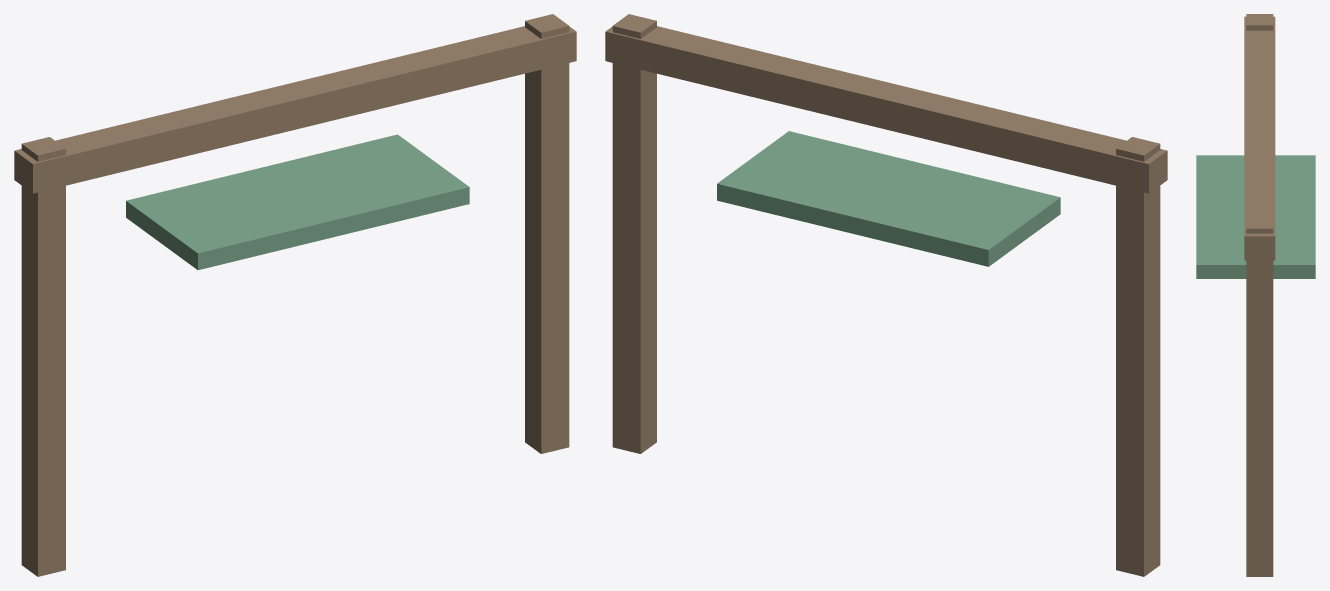
The model's file is tourism-gateway-eco.glb.
3 views of the same model, side by side, from view 1: azimuth 30°, elevation 25°; view 2: azimuth 150°, elevation 25°; view 3: azimuth 270°, elevation 25° (orthographic). The views are drawn at different scales.
Parts seen in each view (by area): view 1: beam, sign, post--1.25, post-1.25; view 2: beam, sign, post--1.25, post-1.25; view 3: sign, post-1.25, beam, post--1.25.
Part boxes in pixels (left/top/right/bottom): beam: left=14, top=26, right=576, bottom=193; sign: left=126, top=134, right=469, bottom=270; post--1.25: left=21, top=137, right=65, bottom=576; post-1.25: left=525, top=14, right=569, bottom=453; beam: left=605, top=26, right=1167, bottom=193; sign: left=717, top=131, right=1060, bottom=266; post--1.25: left=1116, top=137, right=1160, bottom=576; post-1.25: left=612, top=14, right=656, bottom=453; sign: left=1196, top=155, right=1315, bottom=278; post-1.25: left=1246, top=217, right=1273, bottom=576; beam: left=1244, top=16, right=1275, bottom=260; post--1.25: left=1246, top=14, right=1273, bottom=30.
Bounding box in the file's own units: 2.7 × 2 × 0.62.
